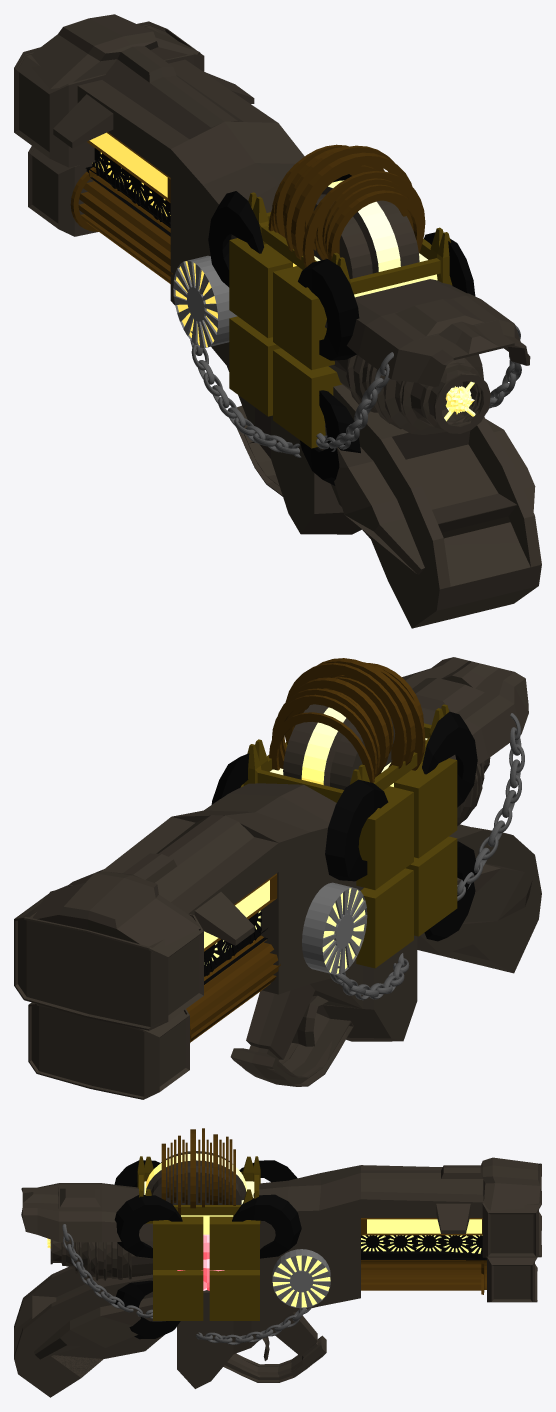
Rendered from DoomEnginePandora.fbx.
3 renders of one model, top to bottom at view 1: azimuth 30°, elevation 25°; view 2: azimuth 150°, elevation 25°; view 3: azimuth 270°, elevation 25°, orthographic. The views are drawn at different scales.
Parts seen in each view (by area): view 1: Cube.016, Cube.011, Cube.002, Cube.010, Cylinder.013, Cube.008, Cylinder, Cube.020, Cylinder.022, Cylinder.020, Torus.013, Cylinder.024 (+6 smaller); view 2: Cube.016, Cube.020, Cube.002, Cube.017, Cylinder.013, Cube.011, Cube.008, Cube.010, Cylinder.024, Cylinder.020, Cylinder.022, Torus.013 (+6 smaller); view 3: Cube.016, Cube.011, Cube.002, Cube.009, Cube.010, Cylinder.013, Cylinder.022, Cube.020, Cylinder.023, Cylinder, Cylinder.020, Cube.017 (+10 smaller).
Boxes of the visible parts, x1=… form: Cube.016: x1=31, y1=14, x2=361, y2=534; Cube.011: x1=317, y1=384, x2=541, y2=628; Cube.002: x1=229, y1=238, x2=452, y2=448; Cube.010: x1=325, y1=279, x2=530, y2=386; Cylinder.013: x1=268, y1=144, x2=425, y2=267; Cube.008: x1=208, y1=191, x2=360, y2=485; Cylinder: x1=328, y1=354, x2=490, y2=434; Cube.020: x1=14, y1=21, x2=204, y2=167; Cylinder.022: x1=70, y1=167, x2=172, y2=283; Cylinder.020: x1=313, y1=180, x2=419, y2=278; Torus.013: x1=190, y1=325, x2=521, y2=457; Cylinder.024: x1=173, y1=255, x2=237, y2=348; Cube.016: x1=33, y1=783, x2=417, y2=1086; Cube.020: x1=14, y1=884, x2=203, y2=1030; Cube.002: x1=240, y1=758, x2=457, y2=968; Cube.017: x1=28, y1=1002, x2=189, y2=1099; Cylinder.013: x1=269, y1=658, x2=425, y2=782; Cube.011: x1=417, y1=824, x2=541, y2=973; Cube.008: x1=325, y1=711, x2=477, y2=941; Cube.010: x1=402, y1=657, x2=528, y2=765; Cylinder.024: x1=302, y1=882, x2=367, y2=974; Cylinder.020: x1=283, y1=704, x2=395, y2=789; Cylinder.022: x1=186, y1=935, x2=280, y2=1042; Torus.013: x1=329, y1=713, x2=524, y2=1000; Cube.016: x1=177, y1=1157, x2=540, y2=1388; Cube.011: x1=14, y1=1267, x2=165, y2=1397; Cube.002: x1=153, y1=1216, x2=259, y2=1320; Cube.009: x1=114, y1=1194, x2=301, y2=1339; Cube.010: x1=21, y1=1183, x2=152, y2=1242; Cylinder.013: x1=161, y1=1128, x2=235, y2=1216; Cylinder.022: x1=361, y1=1257, x2=486, y2=1294; Cube.020: x1=482, y1=1163, x2=541, y2=1257; Cylinder.023: x1=272, y1=1249, x2=330, y2=1308; Cylinder: x1=50, y1=1239, x2=152, y2=1280; Cylinder.020: x1=145, y1=1151, x2=246, y2=1204; Cube.017: x1=487, y1=1257, x2=537, y2=1302.
Bounding box in the file's own units: 544 × 1091 × 2096.
